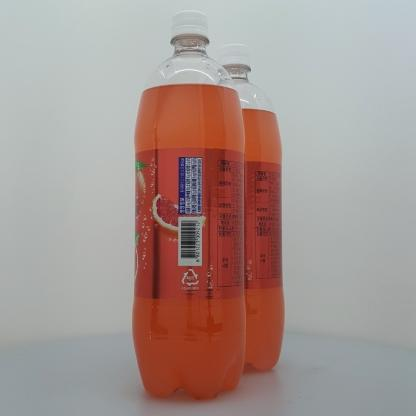--------------: (131, 10, 247, 400)
